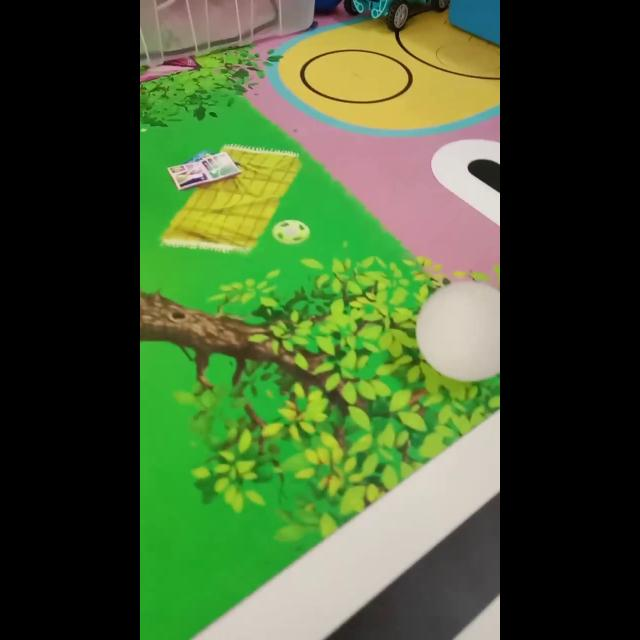white ball: (415, 280, 499, 382)
